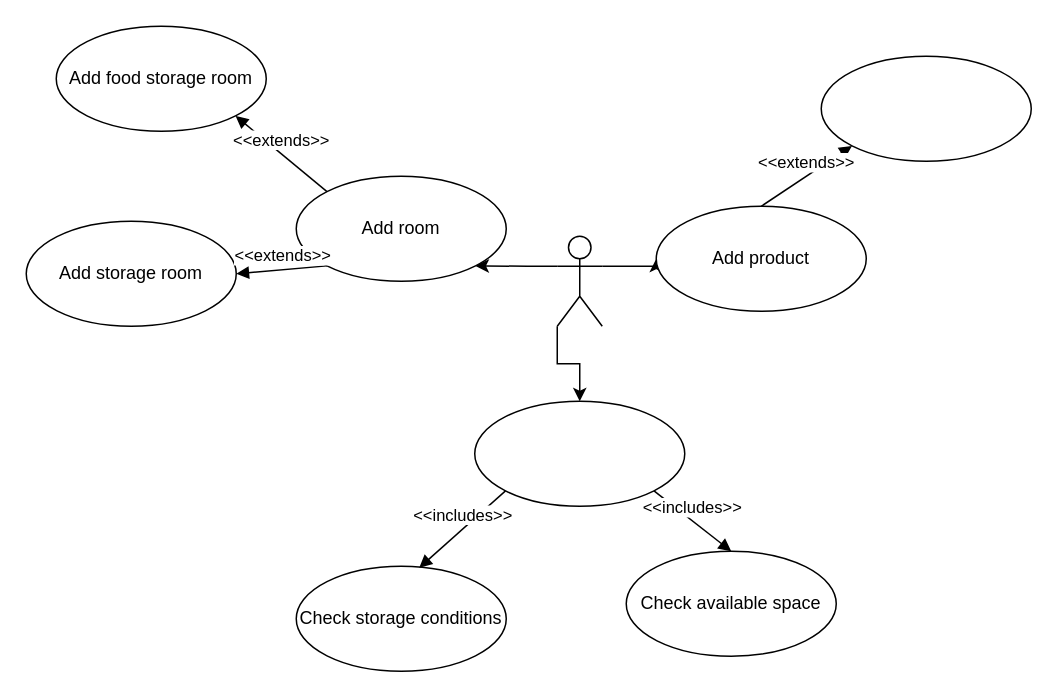
This 1058x698 diagram has some shape labels left out. Here are the shapes that lost their labels. From the top down, the centre of each, then its label:
point 925,108: Add food product
point 579,280: User
point 579,453: Add product ro room
